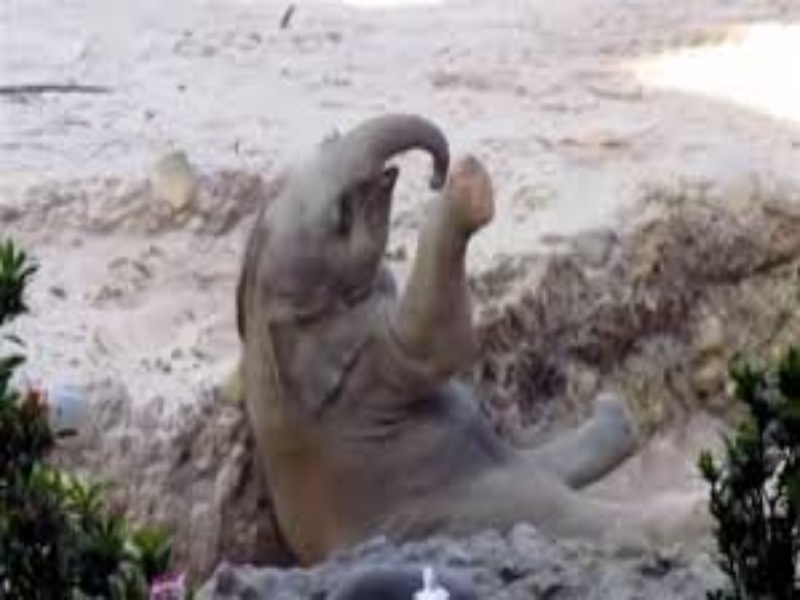elephant: (230, 88, 680, 556)
